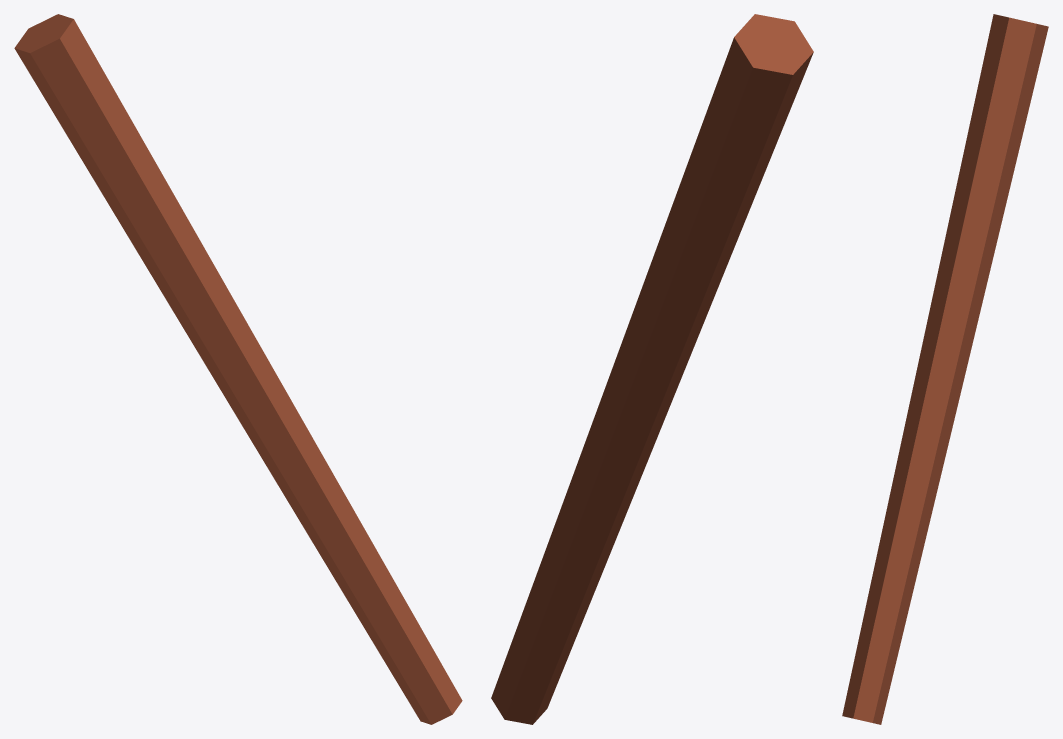
File: rm2_leg_fl_tibia.obj
3 renders of one model, left to right at view 1: azimuth 30°, elevation 25°; view 2: azimuth 150°, elevation 25°; view 3: azimuth 270°, elevation 25°, orthographic. The views are drawn at different scales.
Parts seen in each view (by area): view 1: rm2_leg_fl_tibia; view 2: rm2_leg_fl_tibia; view 3: rm2_leg_fl_tibia.
Part boxes in pixels (box(x1,y1,x2,y2)): rm2_leg_fl_tibia: box(14, 14, 462, 724); rm2_leg_fl_tibia: box(491, 14, 813, 724); rm2_leg_fl_tibia: box(842, 14, 1048, 724).
Bounding box in the file's own units: 0.3996 × 0.7871 × 0.2473.
